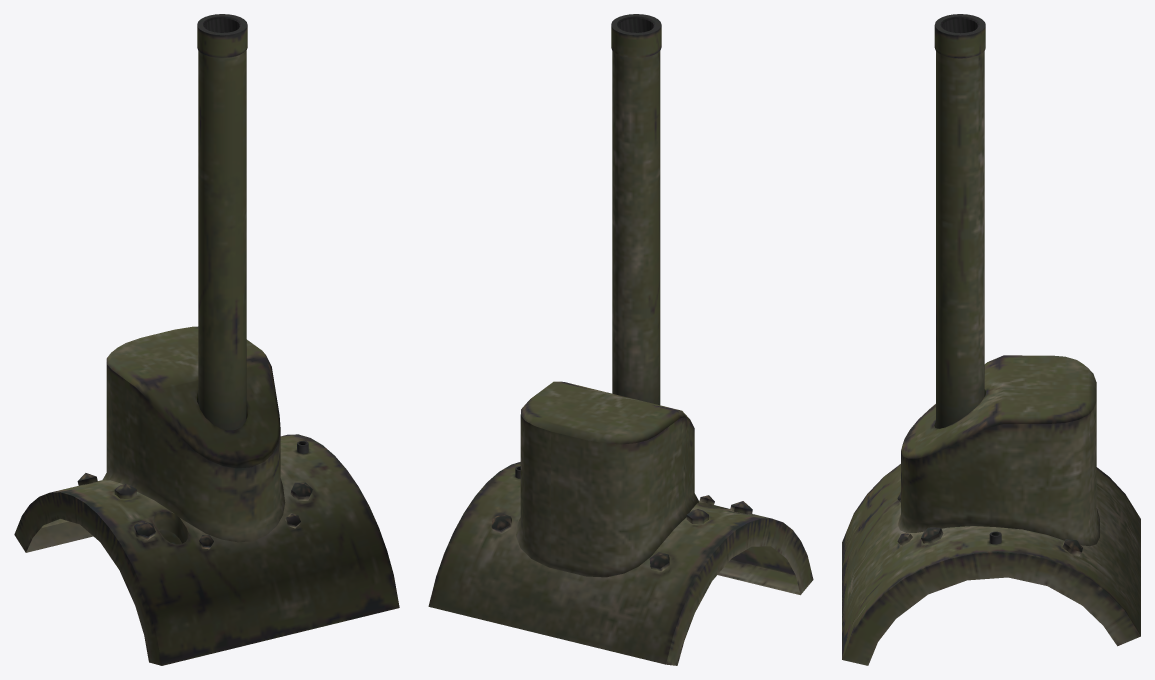
Rendered from Gun_01.glb.
3 views of the same model, side by side, from view 1: azimuth 30°, elevation 25°; view 2: azimuth 150°, elevation 25°; view 3: azimuth 270°, elevation 25° (orthographic).
Visible parts, largest first — view 1: set_0_group_0; view 2: set_0_group_0; view 3: set_0_group_0.
Part boxes in pixels (left/top/right/bottom): set_0_group_0: left=14, top=14, right=399, bottom=665; set_0_group_0: left=428, top=14, right=813, bottom=665; set_0_group_0: left=842, top=14, right=1140, bottom=665.
Bounding box in the file's own units: 0.655 × 1.52 × 0.7049.
Materials: 1 (1 with a texture image).
